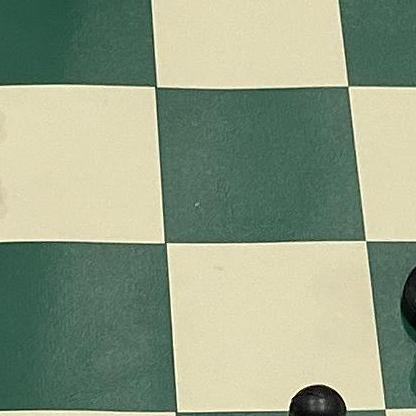black-pawn: (380, 182, 416, 367), (237, 373, 382, 416)
